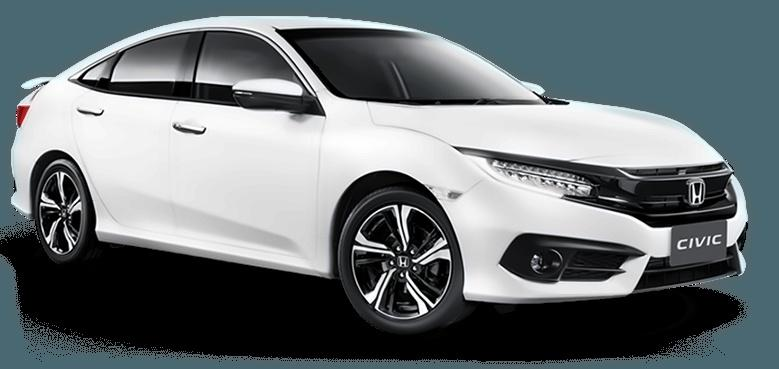Car hood: (365, 97, 731, 169)
Driver-s door - -F-R-: (170, 20, 318, 265)
Fender - -F-R-: (314, 82, 486, 263)
Fender - -R-R-: (25, 96, 108, 238)
Front bumper: (446, 174, 752, 311)
Headlight - -L-: (450, 142, 597, 200)
Passenger-s door - -R-R-: (70, 22, 183, 249)
Rear bumper: (7, 137, 40, 226)
Rear light - -R-: (14, 79, 45, 131)
Side bumper - -R-: (85, 217, 342, 286)
Side mirror - -L-: (513, 71, 553, 99)
Side mirror - -R-: (229, 72, 324, 120)
